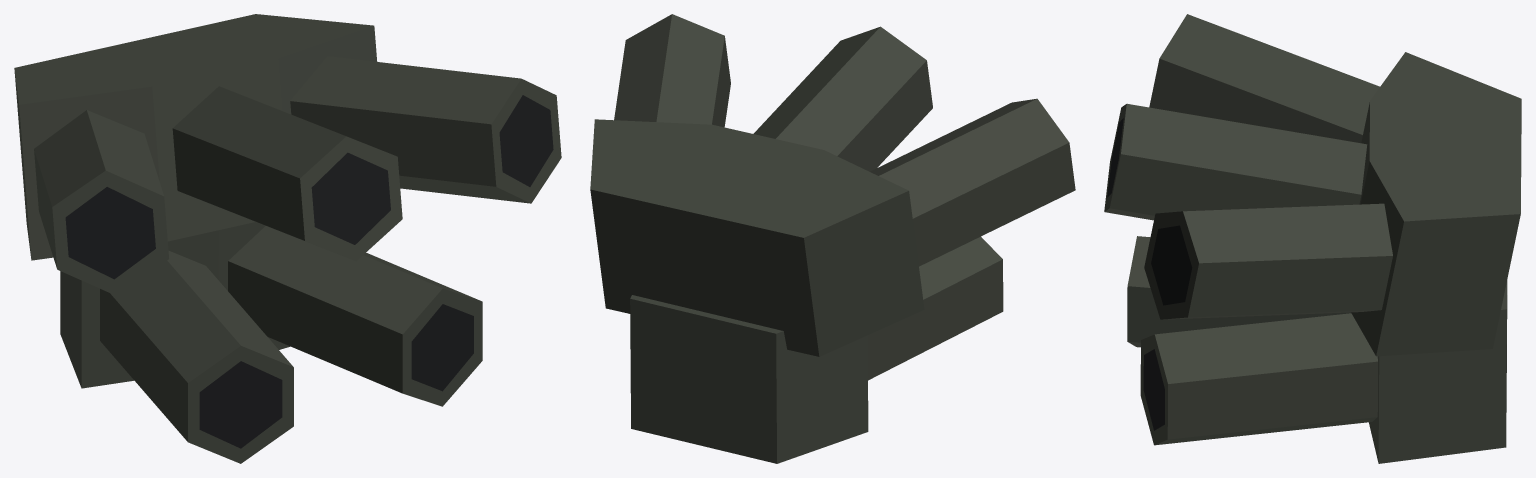
Rendered from SM_Veh_Attach_Flare_01.fbx.
The picture shows the model from 3 angles, left to right: view 1: azimuth 30°, elevation 25°; view 2: azimuth 150°, elevation 25°; view 3: azimuth 270°, elevation 25°; orthographic projection. The views are drawn at different scales.
Parts seen in each view (by area): view 1: SM_Veh_Attach_Flare_01; view 2: SM_Veh_Attach_Flare_01; view 3: SM_Veh_Attach_Flare_01.
Boxes of the visible parts, x1=… form: SM_Veh_Attach_Flare_01: x1=14, y1=14, x2=561, y2=463; SM_Veh_Attach_Flare_01: x1=590, y1=14, x2=1075, y2=463; SM_Veh_Attach_Flare_01: x1=1104, y1=14, x2=1521, y2=463.
Size of the model in its own units: 47.68 by 29.46 by 36.31.
